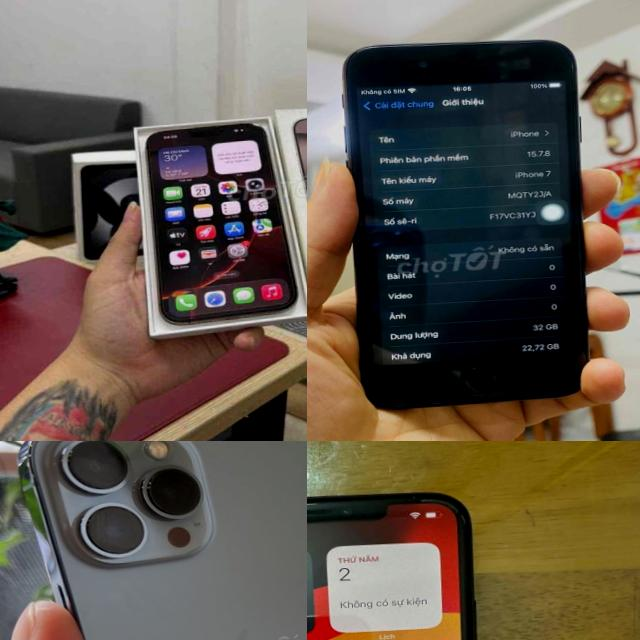gen_11: (307, 475, 517, 640)
gen_12_13: (19, 441, 307, 640)
gen_16: (135, 122, 302, 337)
gen_7_8: (332, 29, 600, 412)
